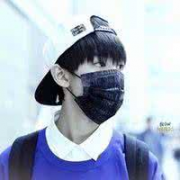yes_mask: (32, 14, 126, 126)
